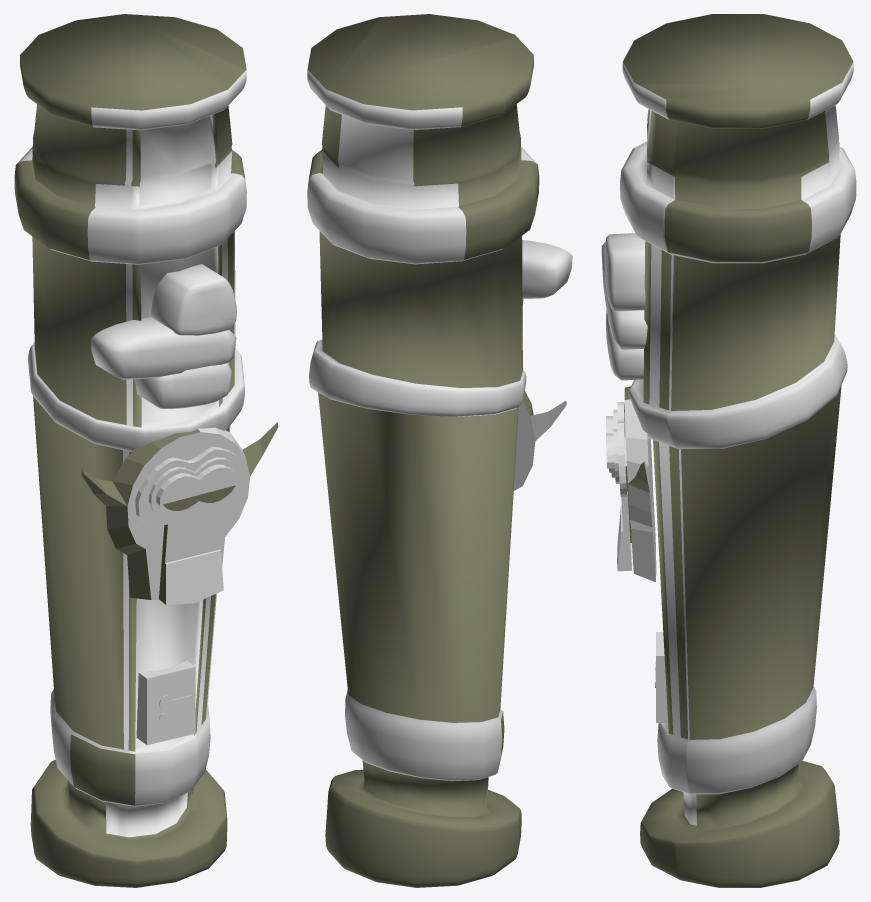
The model's file is Pillar.fbx.
3 views of the same model, side by side, from view 1: azimuth 30°, elevation 25°; view 2: azimuth 150°, elevation 25°; view 3: azimuth 270°, elevation 25° (orthographic).
Visible parts, largest first — view 1: Pillar.001; view 2: Pillar.001; view 3: Pillar.001.
Boxes of the visible parts, box(x1,y1,x2,y2) form: Pillar.001: box(14, 14, 278, 887); Pillar.001: box(307, 14, 572, 887); Pillar.001: box(601, 14, 856, 887).
Bounding box in the file's own units: 66.29 × 248 × 72.51.
